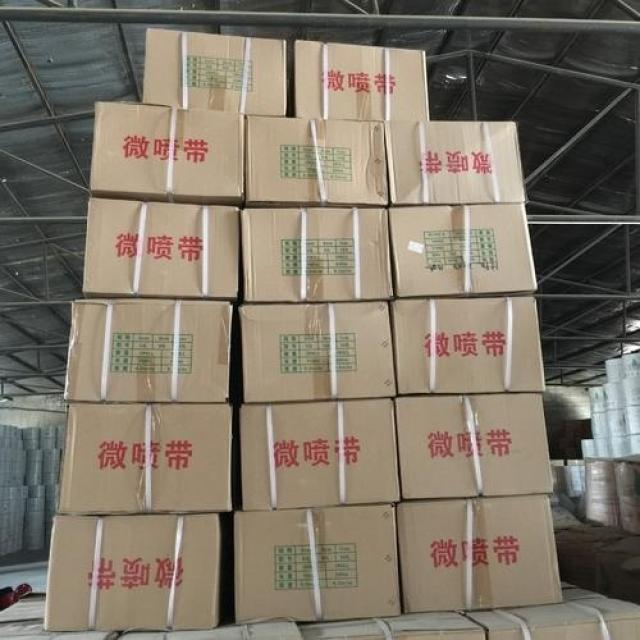box: (43, 512, 221, 631), (235, 505, 403, 626), (396, 496, 563, 616), (57, 400, 233, 511), (240, 397, 401, 509), (66, 300, 234, 402), (392, 396, 553, 499), (83, 197, 242, 301), (91, 102, 247, 205), (239, 304, 393, 403), (392, 298, 544, 397), (242, 207, 394, 304), (387, 205, 536, 299), (141, 27, 286, 117), (244, 118, 390, 206), (384, 123, 526, 206), (287, 42, 429, 123), (110, 584, 303, 639), (465, 599, 639, 639), (0, 594, 117, 639), (301, 614, 485, 639)
